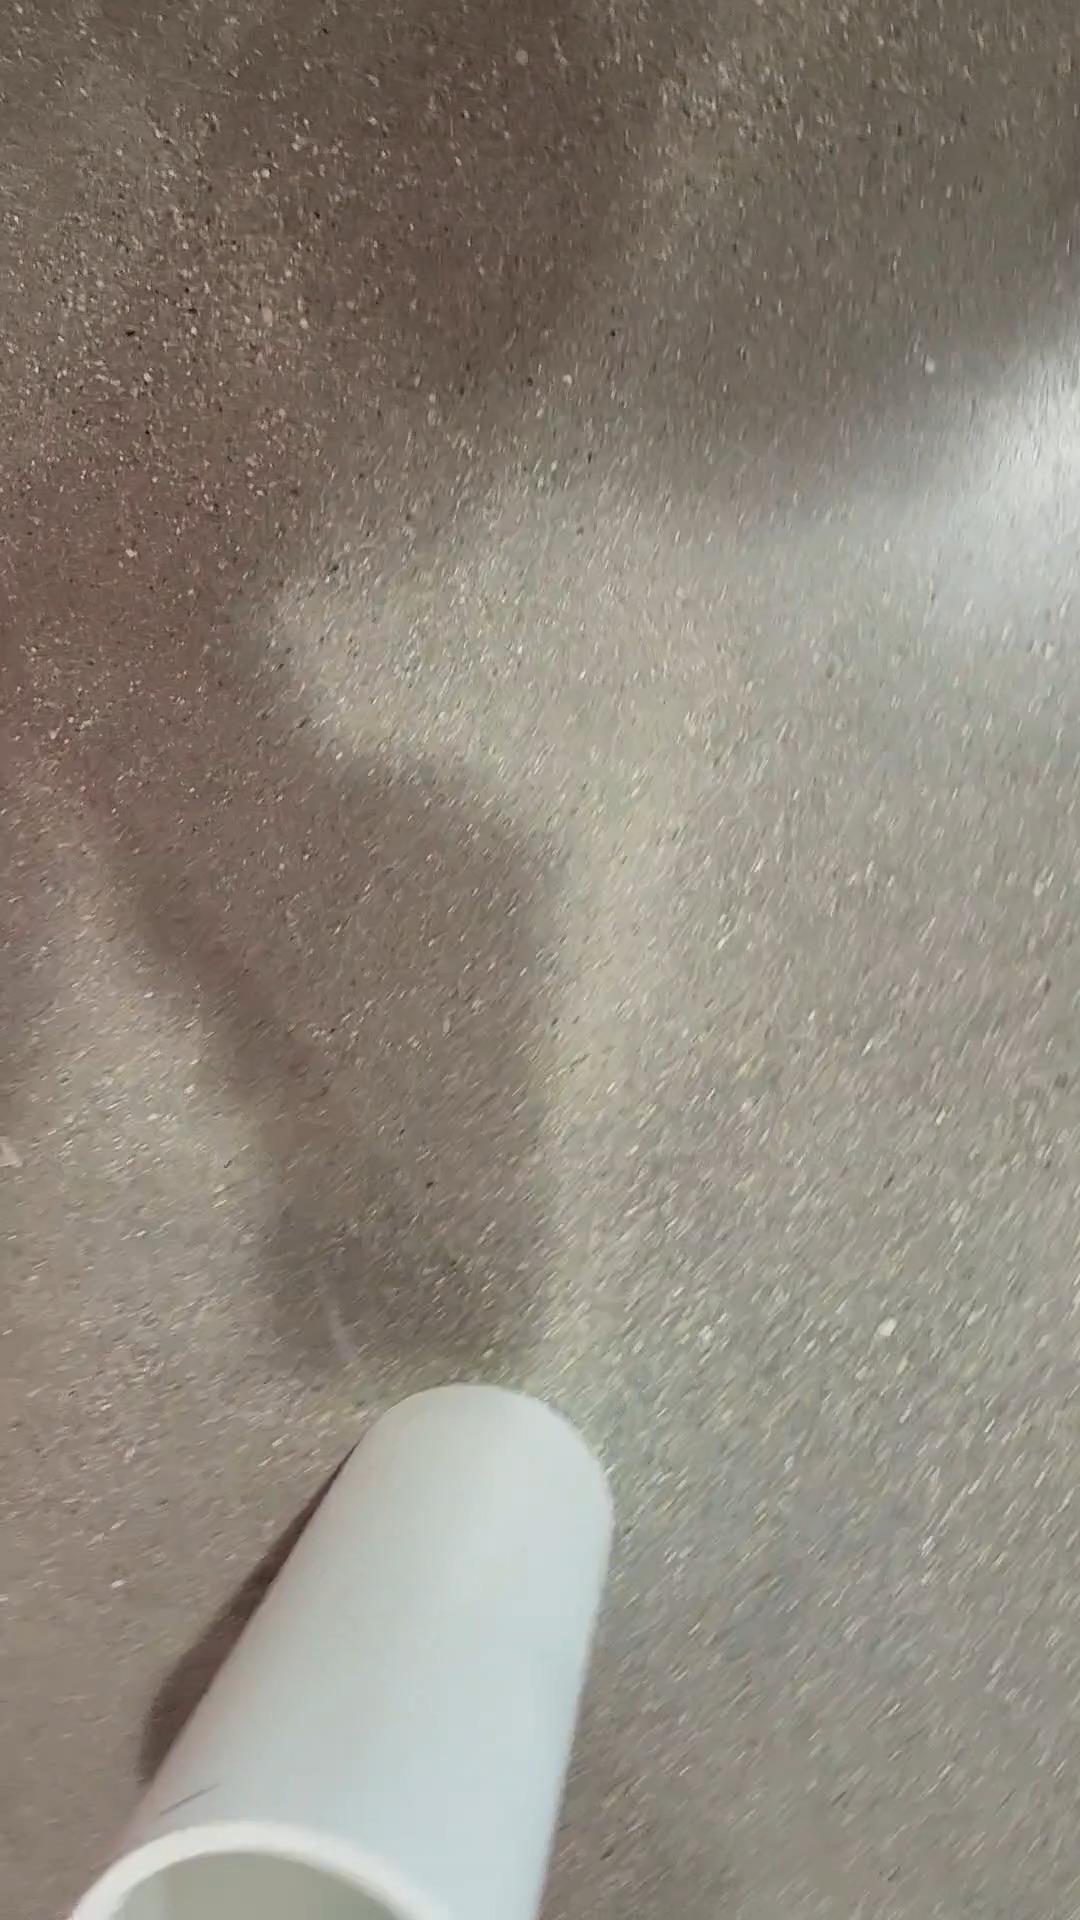coral: (61, 1377, 624, 1920)
